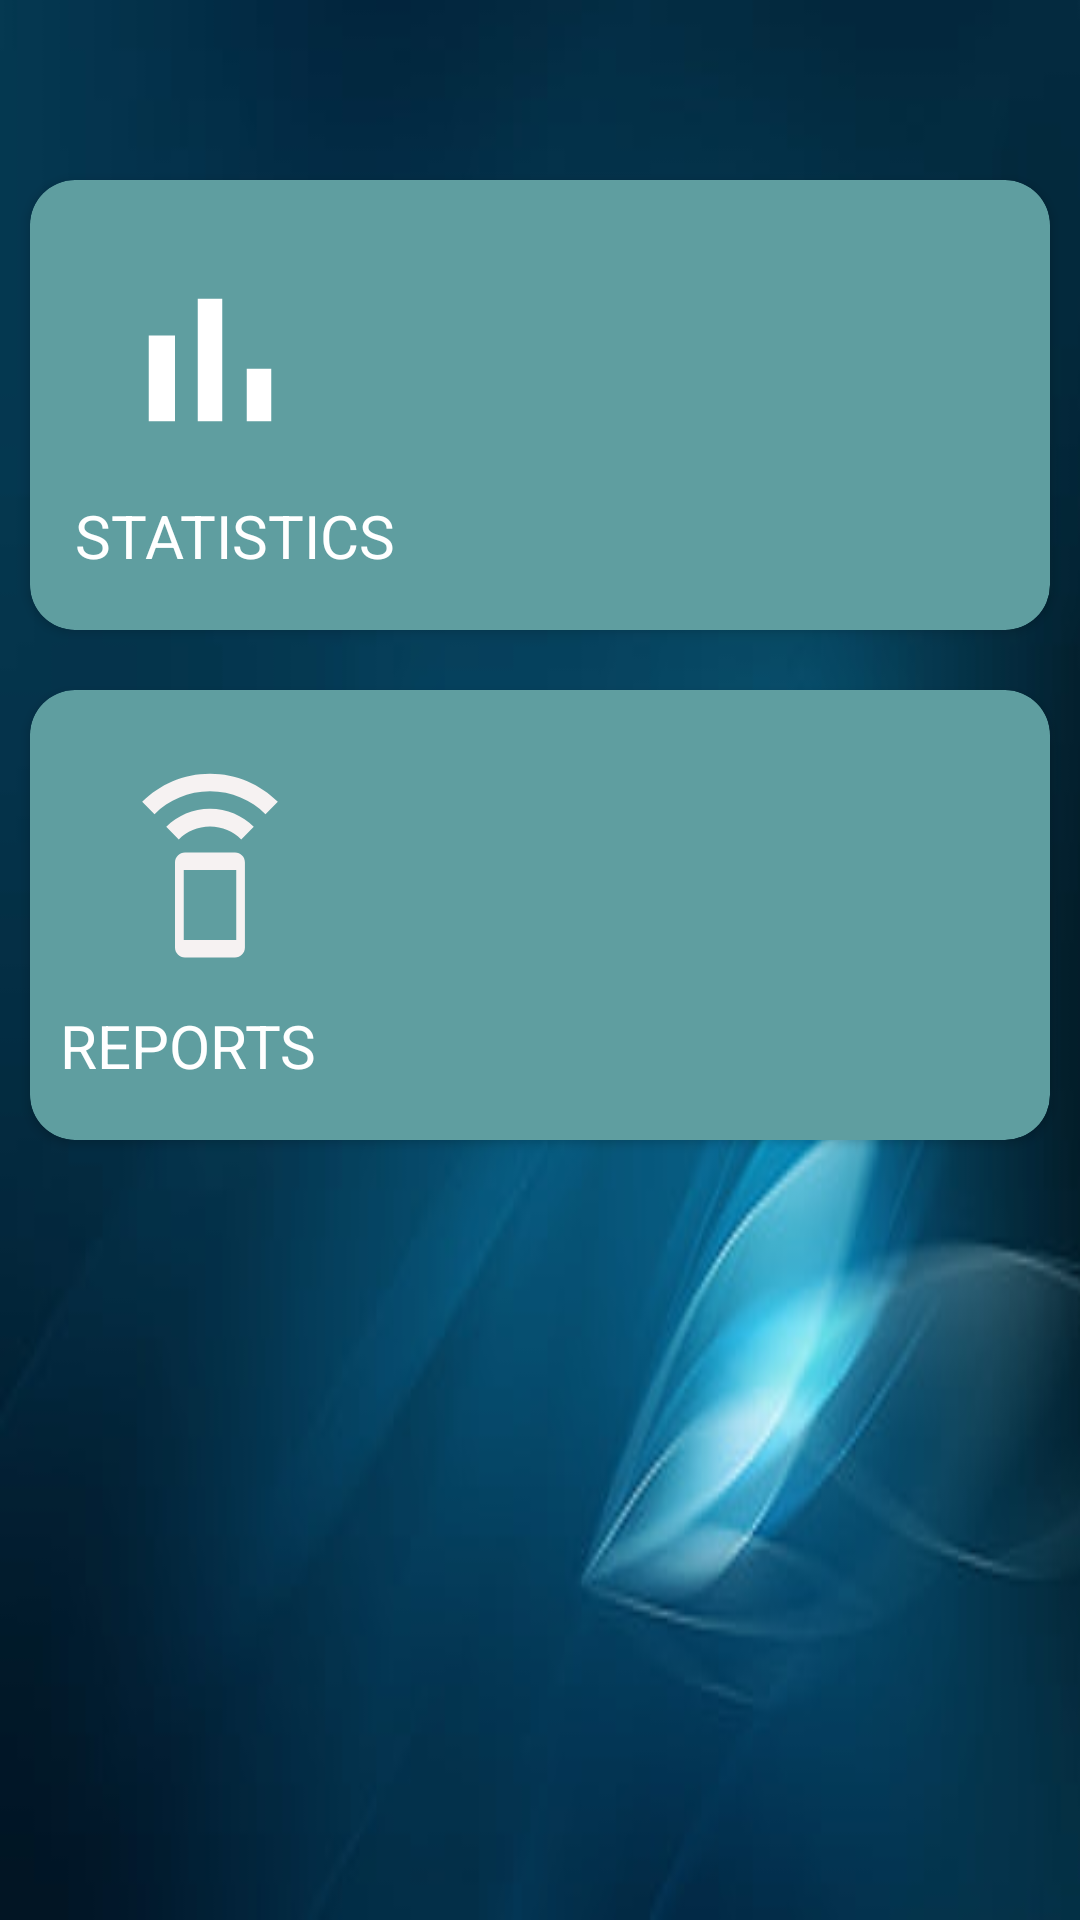

Where icons sit on this 1080 x 1920 app screen, as rect(x1, y1, x2, y2):
bar chart: rect(148, 298, 272, 422)
